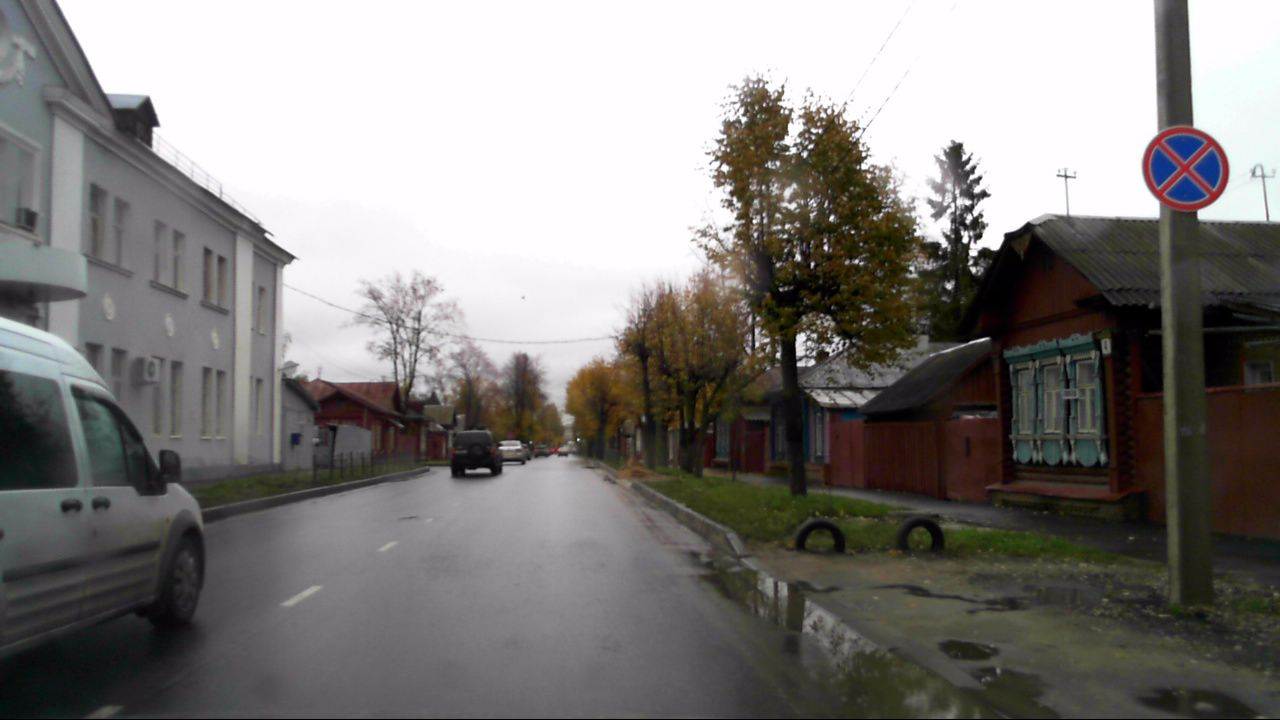No Parking: (1144, 126, 1229, 211)
